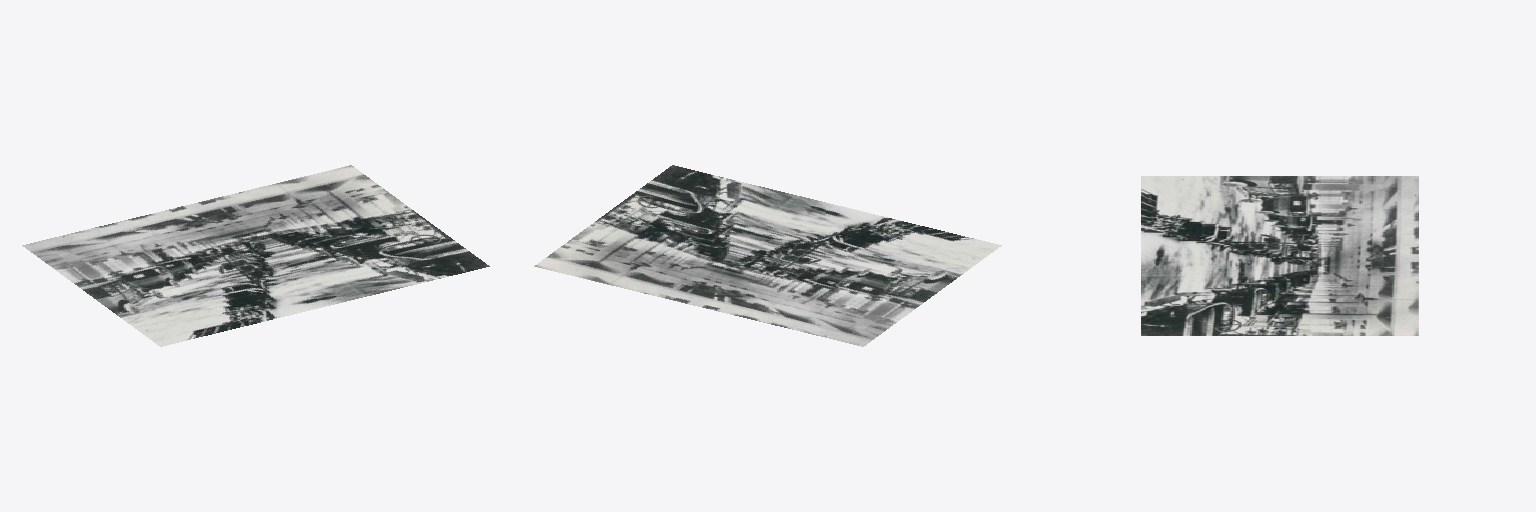
The picture shows the model from 3 angles: view 1: azimuth 30°, elevation 25°; view 2: azimuth 150°, elevation 25°; view 3: azimuth 270°, elevation 25°; orthographic projection.
Visible parts, largest first — view 1: Plane001; view 2: Plane001; view 3: Plane001.
Part boxes in pixels (x1,y1,x2,y2): Plane001: (22,165,489,346); Plane001: (534,165,1001,346); Plane001: (1141,176,1418,335).
Size of the model in its own units: 2.69 by 0 by 1.96.
Materials: 1 (1 with a texture image).